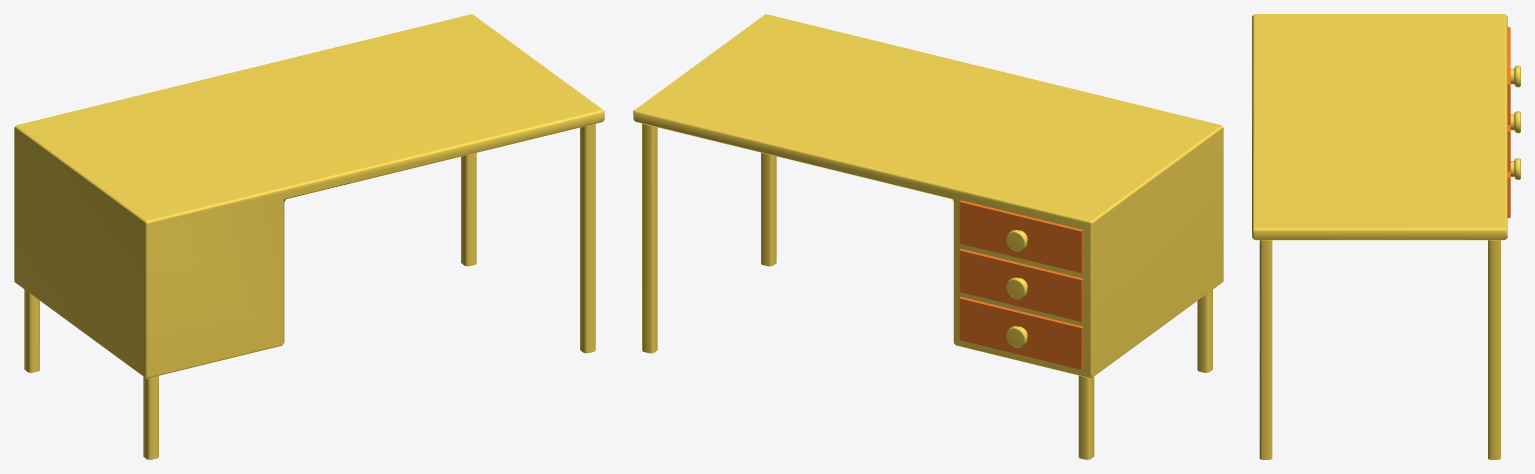
Rendered from Desk.fbx.
3 renders of one model, left to right at view 1: azimuth 30°, elevation 25°; view 2: azimuth 150°, elevation 25°; view 3: azimuth 270°, elevation 25°, orthographic. The views are drawn at different scales.
Visible parts, largest first — view 1: Desk; view 2: Desk; view 3: Desk.
Boxes of the visible parts, bbox=[...] form: Desk: bbox=[14, 14, 604, 459]; Desk: bbox=[633, 14, 1223, 459]; Desk: bbox=[1252, 14, 1520, 459].
Bounding box in the file's own units: 200 × 101 × 105.
